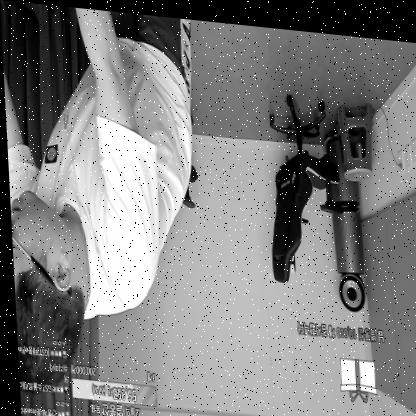donation: (292, 311, 384, 401)
streamer: (0, 0, 211, 408)
